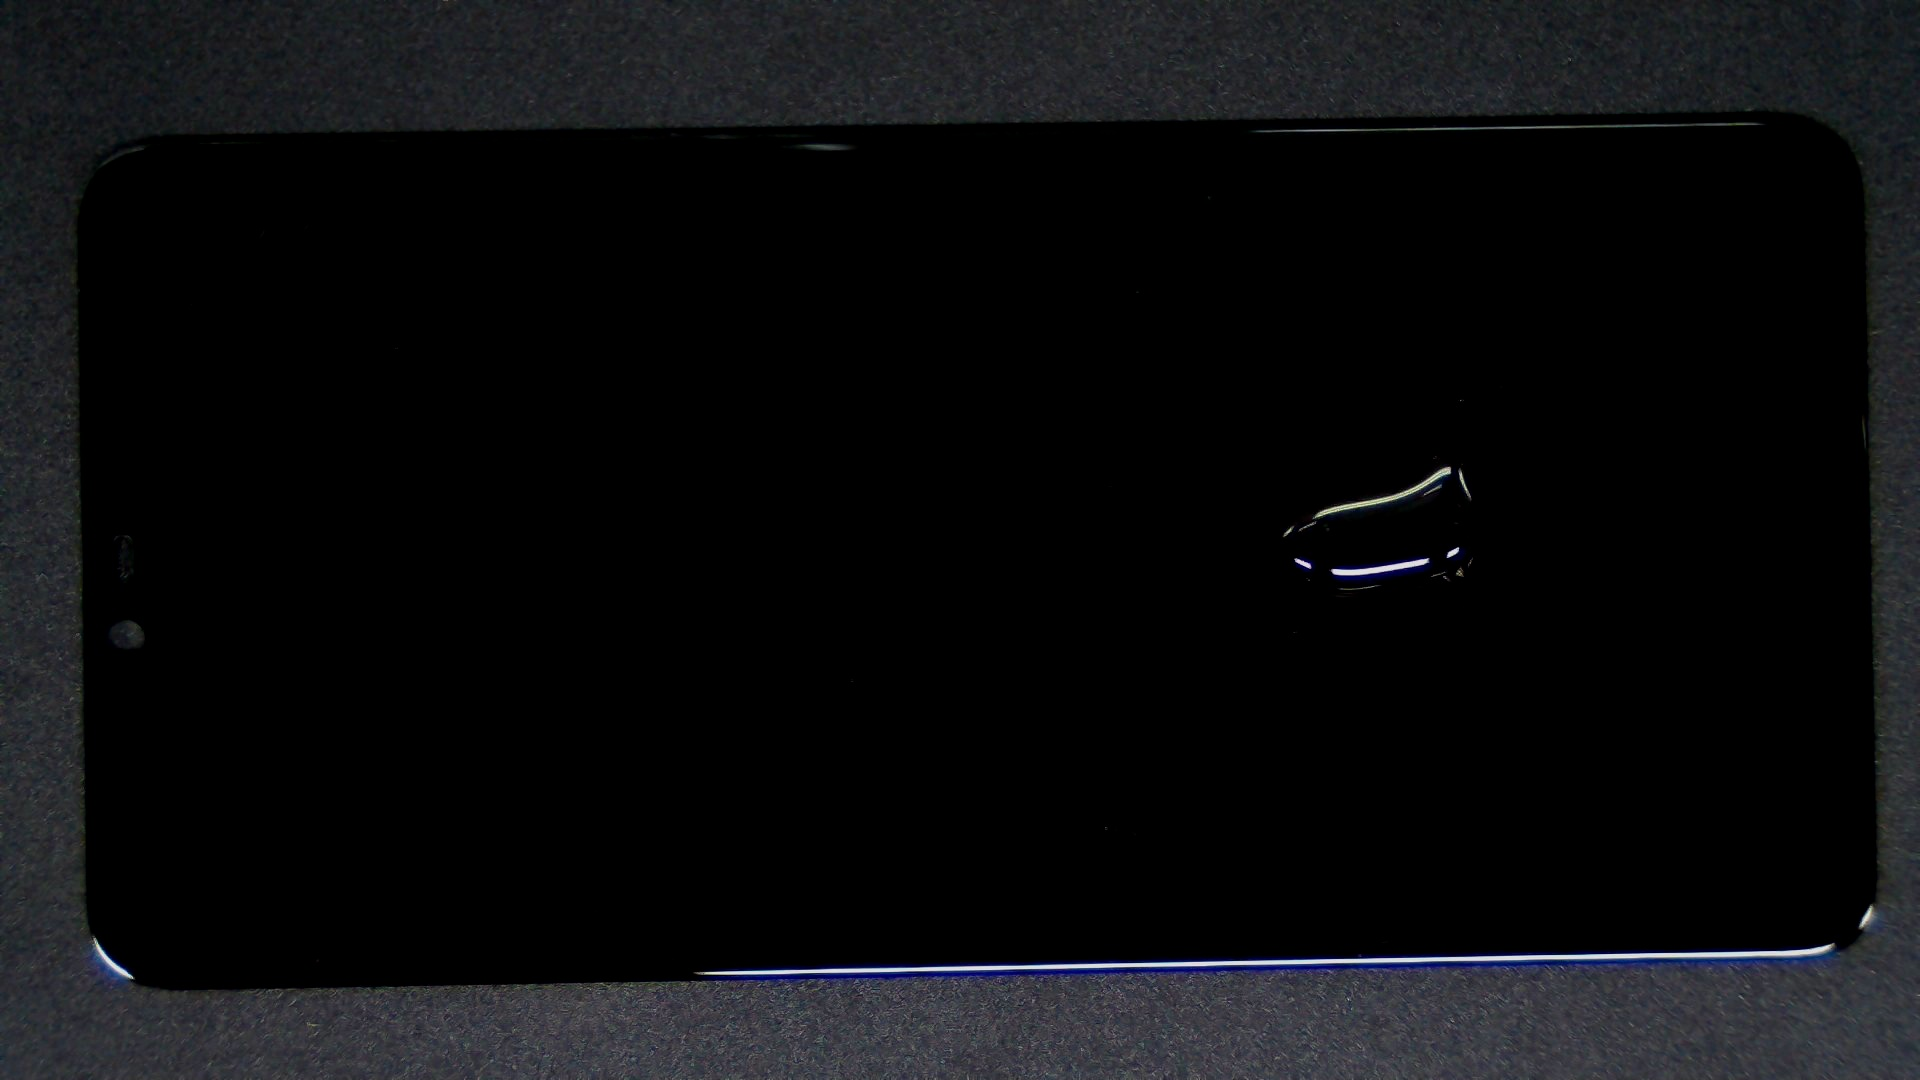oil: (723, 225, 1920, 680)
